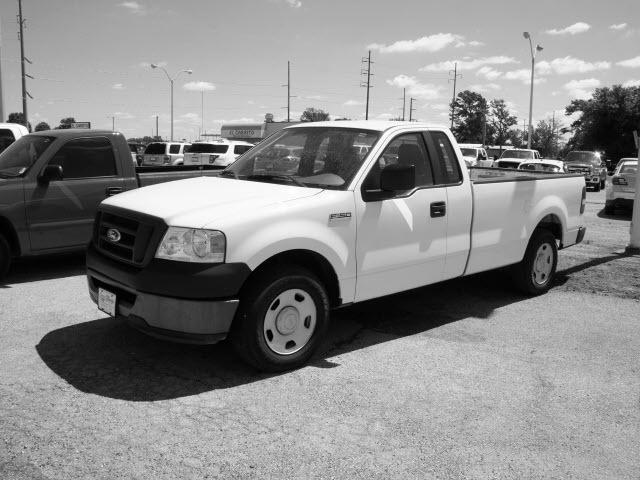car: (85, 123, 589, 373)
